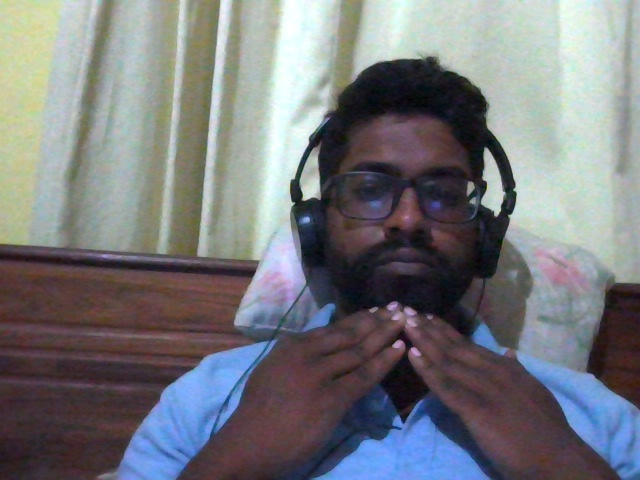Thank you: (120, 288, 631, 480)
